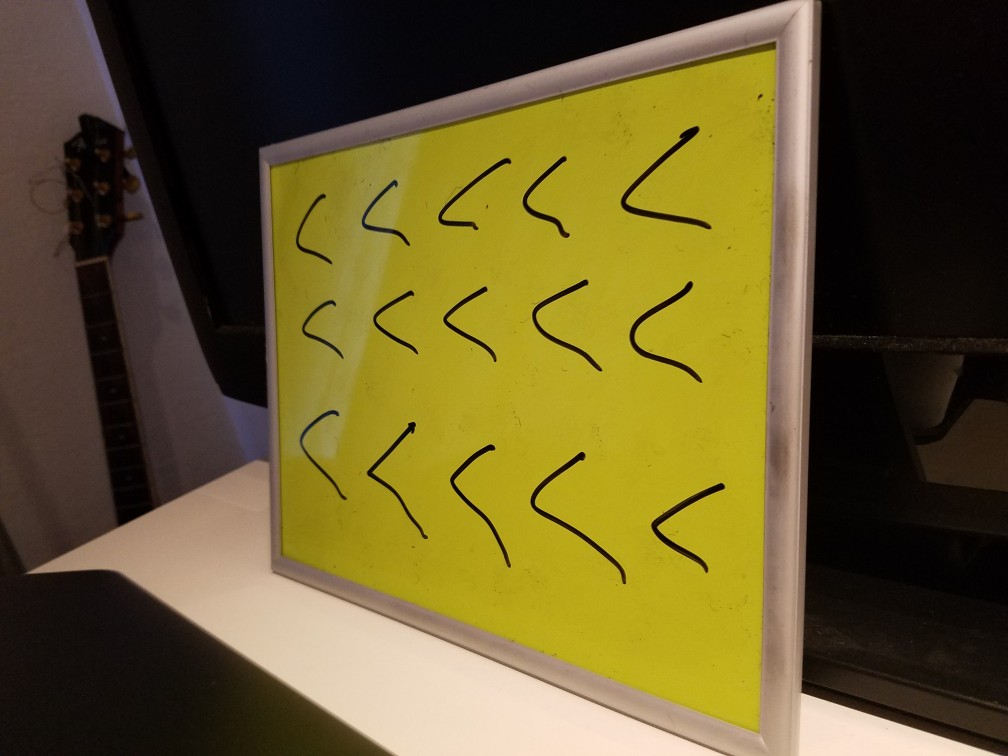<: (522, 435, 636, 585), (607, 112, 726, 242), (627, 456, 744, 582), (511, 264, 615, 391), (353, 404, 441, 545), (430, 433, 510, 574), (621, 269, 713, 388), (282, 387, 353, 510), (426, 150, 513, 248), (438, 270, 506, 377), (351, 165, 416, 254), (360, 270, 417, 364), (521, 152, 581, 241), (287, 186, 339, 279), (293, 289, 346, 363)
